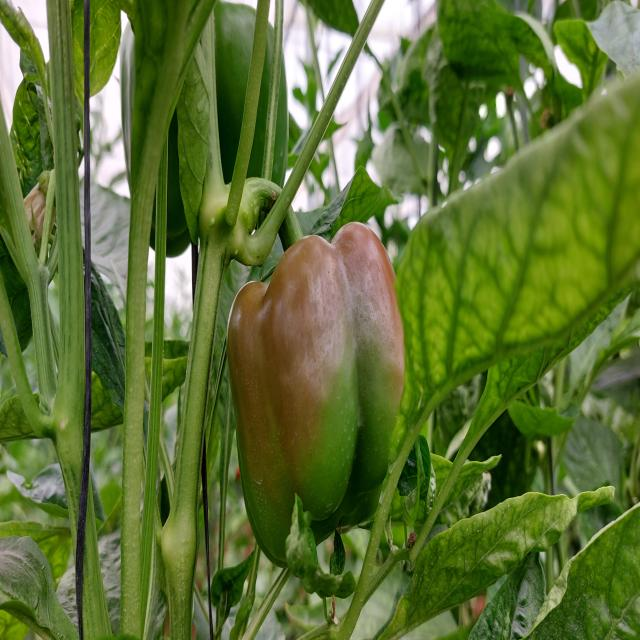BrownishRed--Can-be-Harvested: (217, 224, 407, 580)
